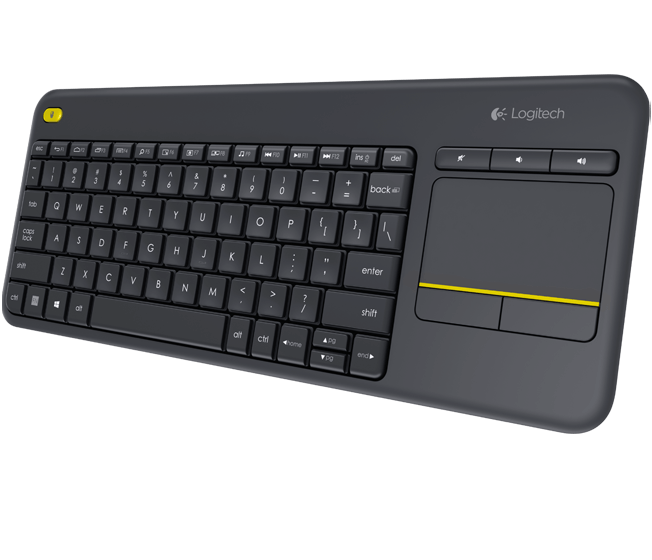logitech-keyboard-k400: (1, 77, 642, 431)
